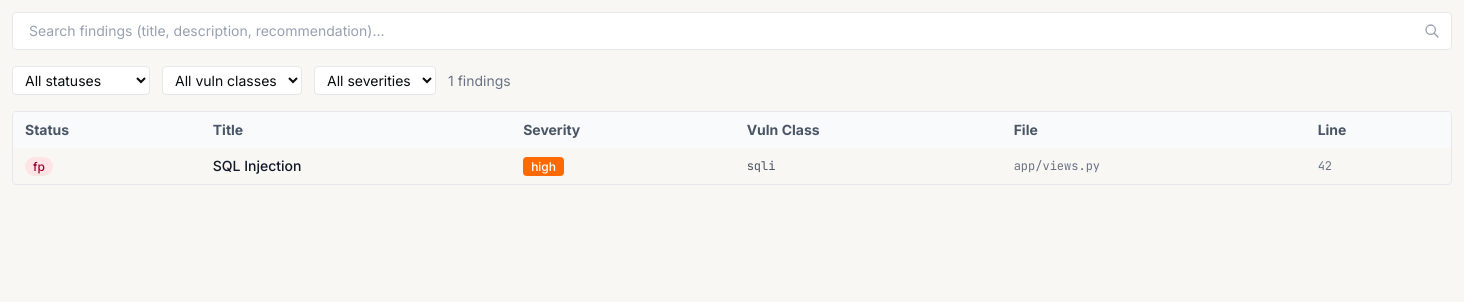
it: FindingsExplorer › shows reclassify button for FP findings when expanded
This screenshot has width=1464, height=302.
Click the text "SQL Injection": (257, 166) [13,148,1451,184]
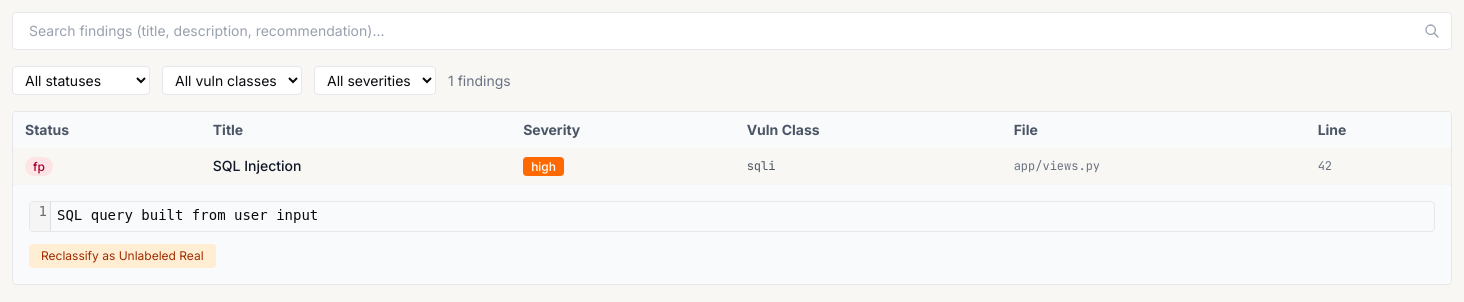
Expected: the button "Reclassify as Unlabeled Real" is shown, [29,244,216,268]
